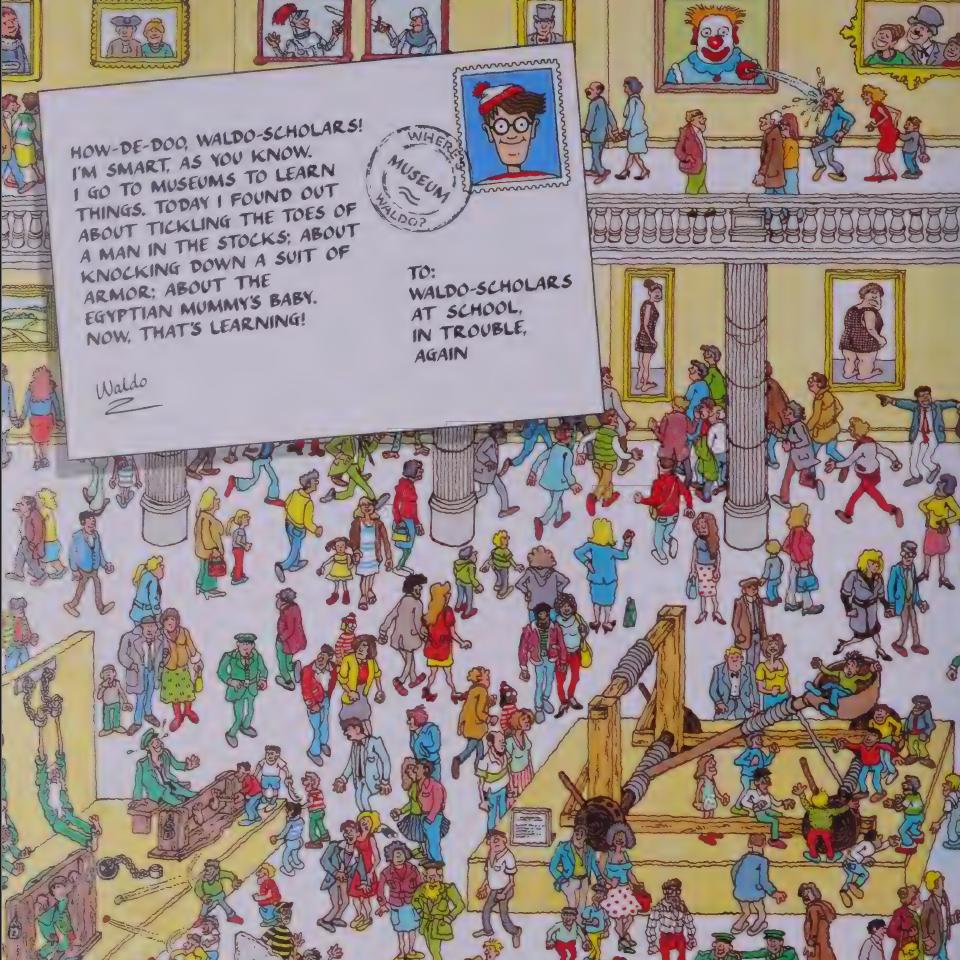waldo: (471, 82, 560, 181)
